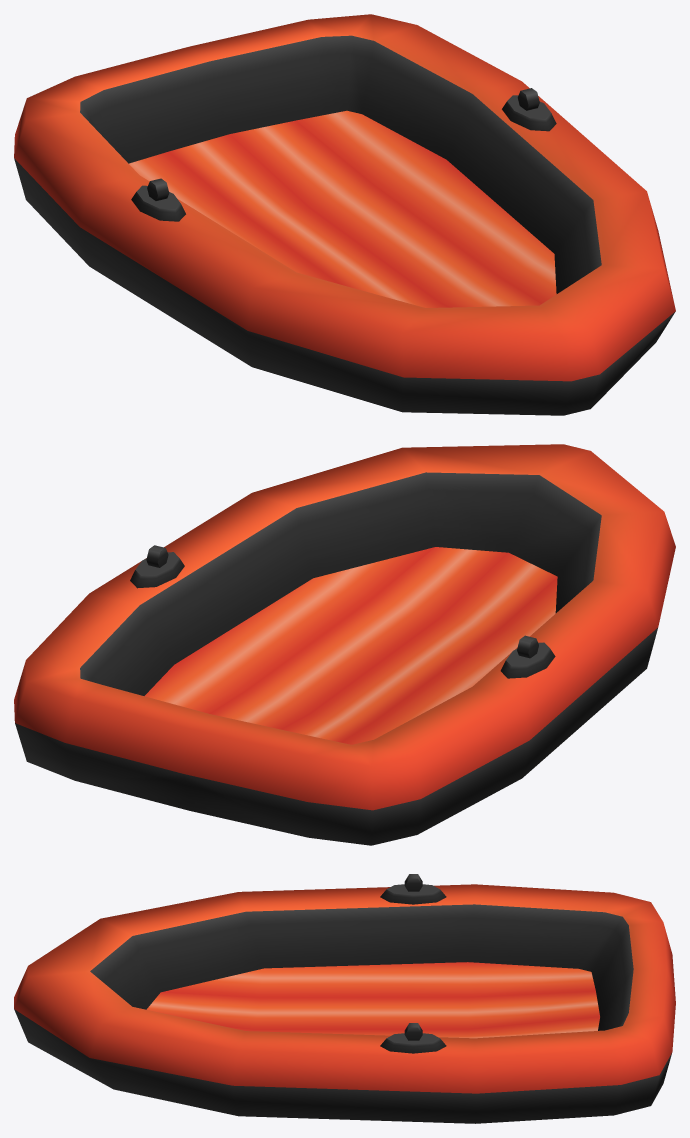
File: Inflatable_Boat_02.fbx
3 renders of one model, top to bottom at view 1: azimuth 30°, elevation 25°; view 2: azimuth 150°, elevation 25°; view 3: azimuth 270°, elevation 25°, orthographic. The views are drawn at different scales.
Parts seen in each view (by area): view 1: Inflatable_Boat_02; view 2: Inflatable_Boat_02; view 3: Inflatable_Boat_02.
Part boxes in pixels (<box>): Inflatable_Boat_02: <box>14,14,675,415</box>; Inflatable_Boat_02: <box>14,444,675,845</box>; Inflatable_Boat_02: <box>14,874,675,1123</box>.
Size of the model in its own units: 0.5888 by 0.1594 by 0.9106.
